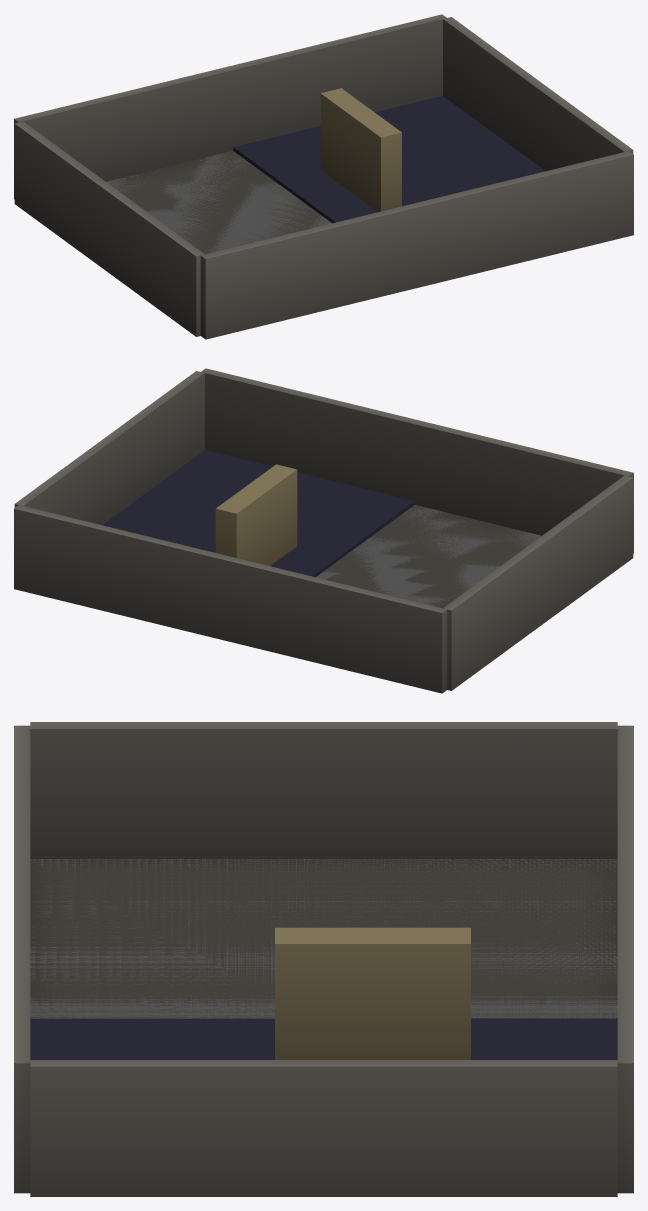
The model's file is dev-room.glb.
3 renders of one model, top to bottom at view 1: azimuth 30°, elevation 25°; view 2: azimuth 150°, elevation 25°; view 3: azimuth 270°, elevation 25°, orthographic. The views are drawn at different scales.
Parts seen in each view (by area): view 1: WALL_south, WALL_north, WALL_west, FOG_east, WALL_east, floor, COL_floor, pillar; view 2: WALL_north, WALL_south, WALL_west, FOG_east, WALL_east, floor, pillar, COL_floor; view 3: WALL_west, WALL_east, floor, pillar, COL_floor, FOG_east, WALL_north, WALL_south.
Boxes of the visible parts, x1=… form: WALL_south: x1=200, y1=151, x2=633, y2=339; WALL_north: x1=14, y1=14, x2=446, y2=199; WALL_west: x1=14, y1=121, x2=204, y2=336; FOG_east: x1=233, y1=96, x2=545, y2=223; WALL_east: x1=443, y1=17, x2=633, y2=170; floor: x1=110, y1=151, x2=325, y2=254; COL_floor: x1=106, y1=151, x2=331, y2=253; pillar: x1=320, y1=88, x2=401, y2=211; WALL_north: x1=14, y1=505, x2=447, y2=693; WALL_south: x1=201, y1=368, x2=633, y2=553; WALL_west: x1=443, y1=475, x2=633, y2=690; FOG_east: x1=102, y1=450, x2=414, y2=577; WALL_east: x1=14, y1=371, x2=204, y2=524; floor: x1=323, y1=505, x2=540, y2=608; pillar: x1=215, y1=464, x2=297, y2=565; COL_floor: x1=316, y1=505, x2=541, y2=605; WALL_west: x1=30, y1=722, x2=617, y2=858; WALL_east: x1=30, y1=1060, x2=617, y2=1196; floor: x1=30, y1=859, x2=617, y2=1018; pillar: x1=275, y1=927, x2=470, y2=1059; COL_floor: x1=30, y1=859, x2=617, y2=1018; FOG_east: x1=30, y1=1018, x2=617, y2=1059; WALL_north: x1=617, y1=725, x2=633, y2=1193; WALL_south: x1=14, y1=725, x2=30, y2=1193.
Size of the model in its own units: 12.5 by 2.3 by 9.5.
